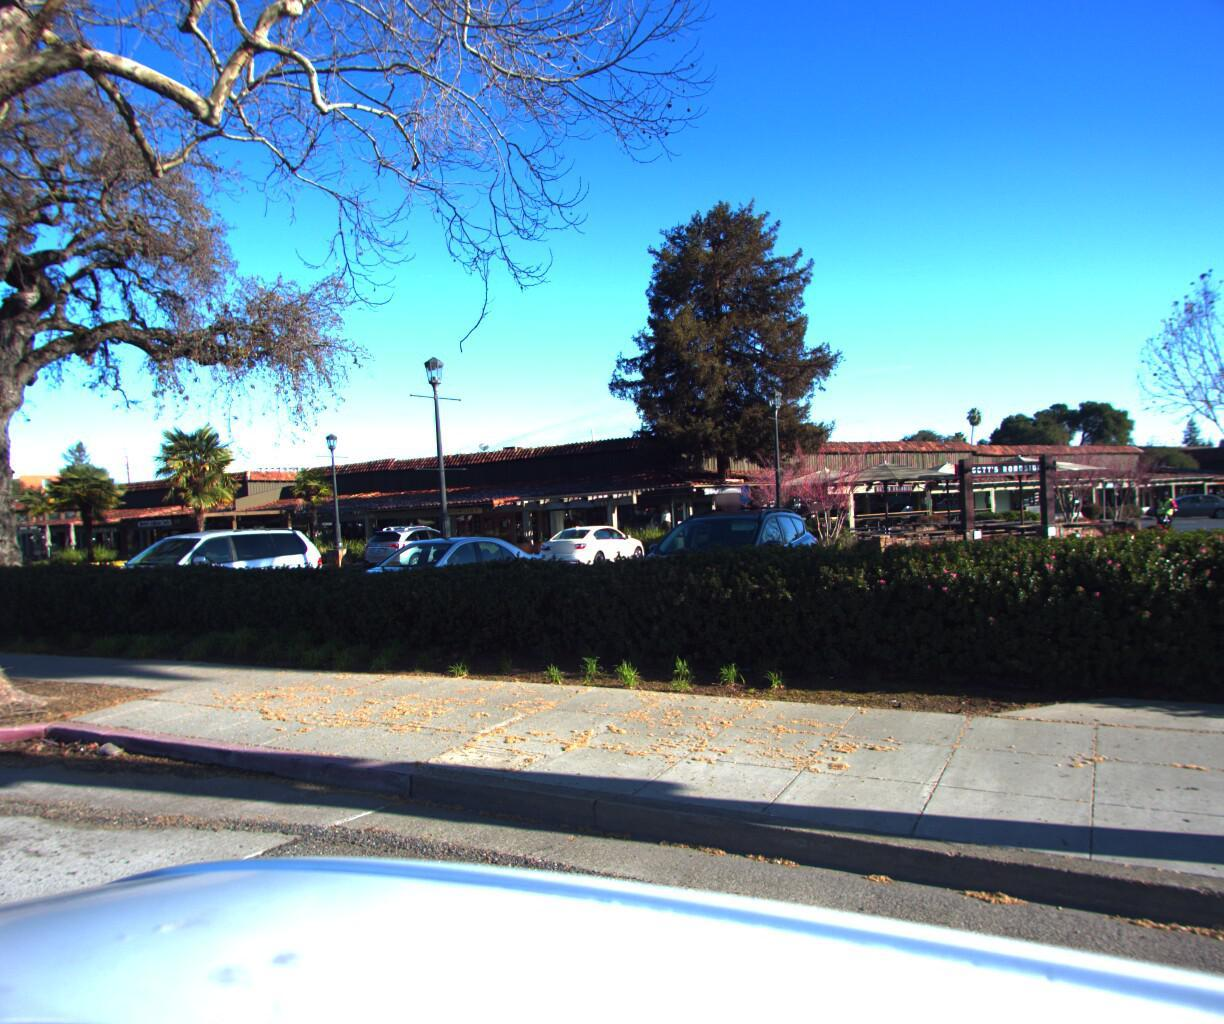car: (590, 494, 838, 657), (313, 525, 566, 651), (79, 518, 333, 626)
